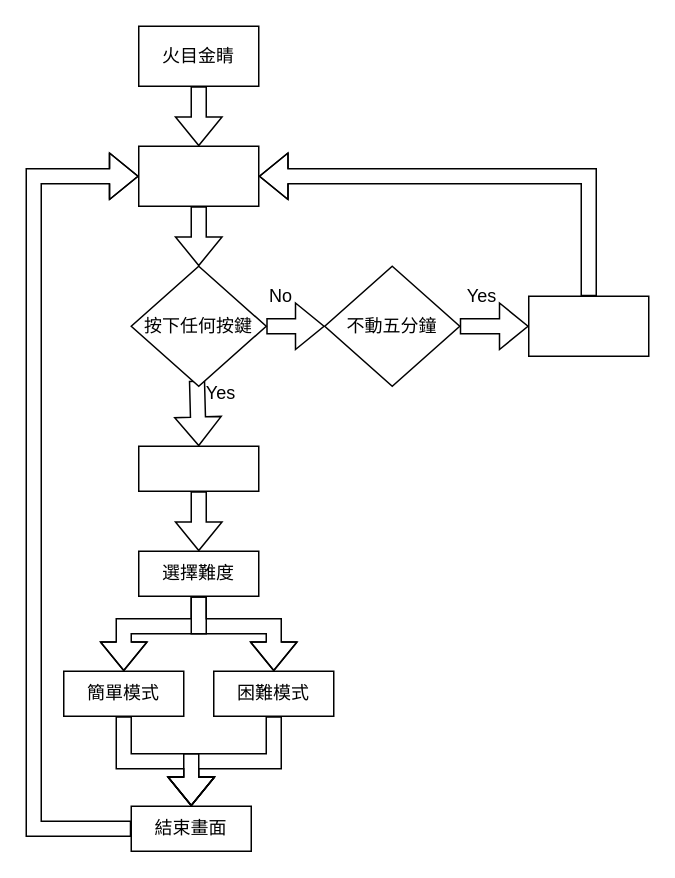
Image size: 675x878. Some labels were removed from this diagram. The shapes that lost their labels are listed below. From the top down, each one's box as (x1, y1, x2, y2) in pixels, then its label:
(137, 145, 259, 206): 開始畫面
(527, 295, 649, 356): 進入靜置畫面
(137, 445, 259, 491): 規則介紹
